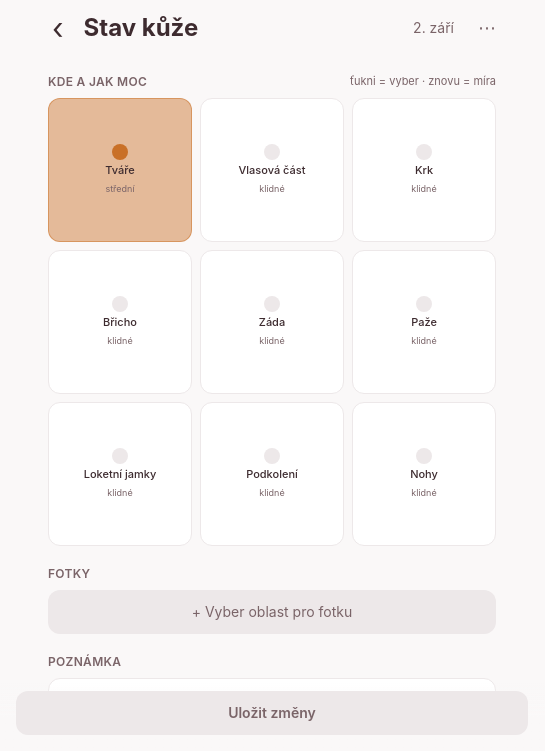
Scenario: skin/+page.svelte — region grid › bumping a region flips dirty=true and enables Uložit
Expected: the text box showing "itchy" is shown, [48,678,496,745]
Step 1. Click the button with test id "skin-region-arms" → (424,322), box [352,250,496,394]
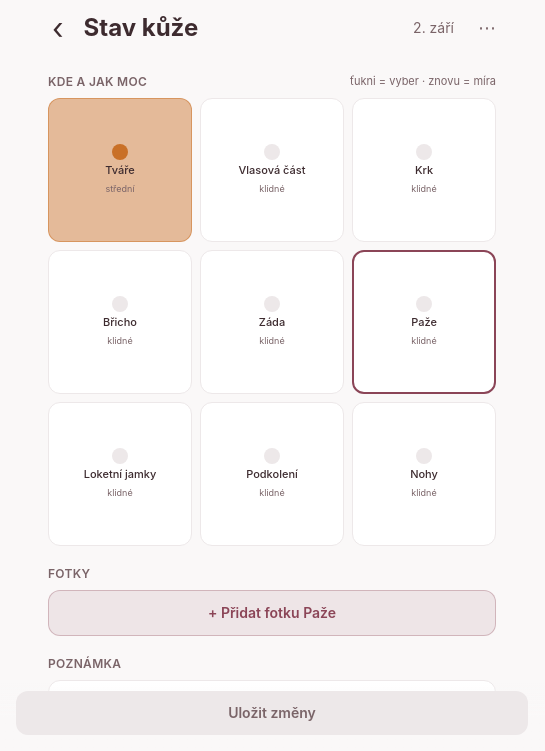
Step 2. Click the button with test id "skin-region-arms" → (424,322), box [352,250,496,394]
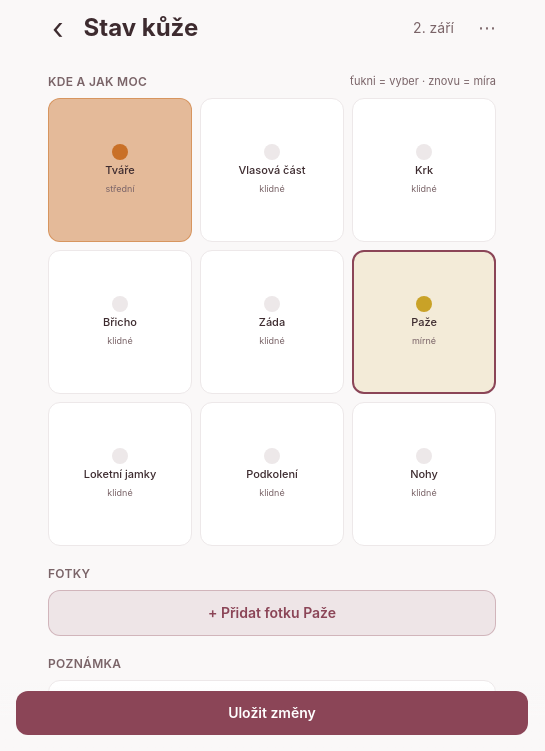
Expected: the button with test id "skin-save" is enabled, [16,691,528,735]
